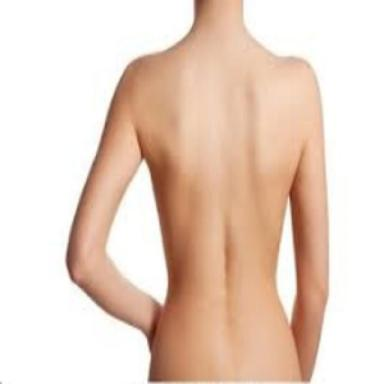normal skin: (67, 0, 328, 381)
